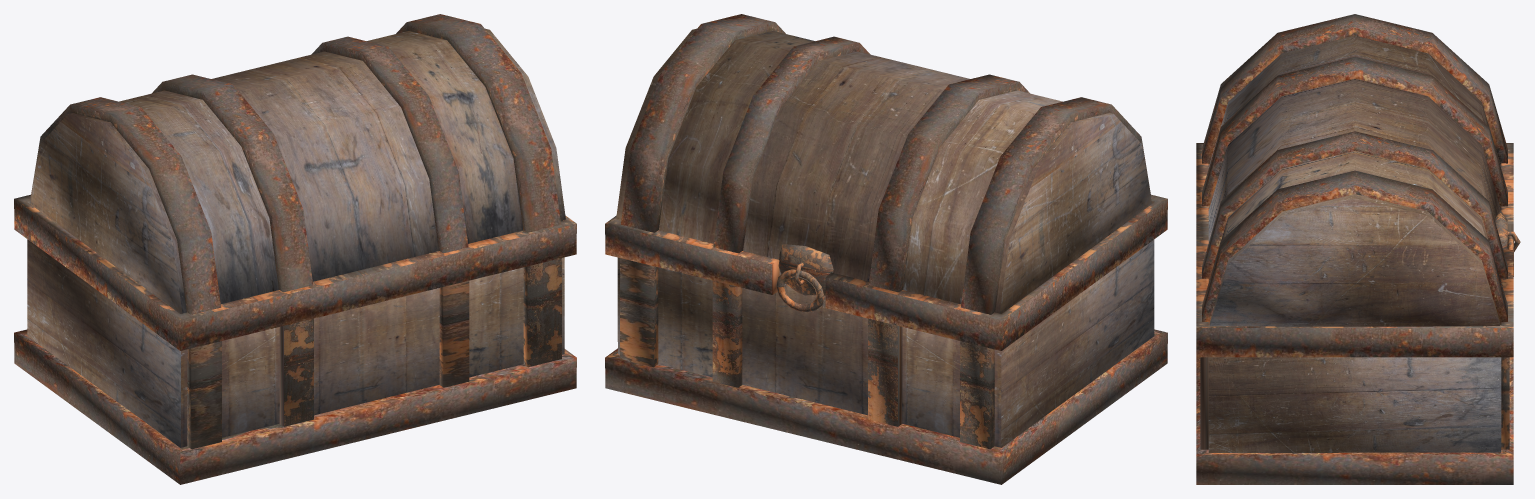
The model's file is Chest.FBX.
3 renders of one model, left to right at view 1: azimuth 30°, elevation 25°; view 2: azimuth 150°, elevation 25°; view 3: azimuth 270°, elevation 25°, orthographic. The views are drawn at different scales.
Parts seen in each view (by area): view 1: ChestTop (×2), Group007, Cylinder006; view 2: ChestTop (×2), Group007, Cylinder006; view 3: ChestTop (×2), Cylinder006, Group007.
Part boxes in pixels (left/top/right/bottom): ChestTop (×2): left=30, top=14, right=565, bottom=314; Group007: left=14, top=194, right=576, bottom=484; Cylinder006: left=27, top=239, right=564, bottom=447; ChestTop (×2): left=616, top=14, right=1151, bottom=314; Group007: left=605, top=194, right=1167, bottom=484; Cylinder006: left=617, top=239, right=1154, bottom=447; ChestTop (×2): left=1202, top=14, right=1520, bottom=326; Cylinder006: left=1208, top=357, right=1501, bottom=452; Group007: left=1196, top=143, right=1513, bottom=484.
Size of the model in its own units: 3.18 by 2.35 by 2.36.
